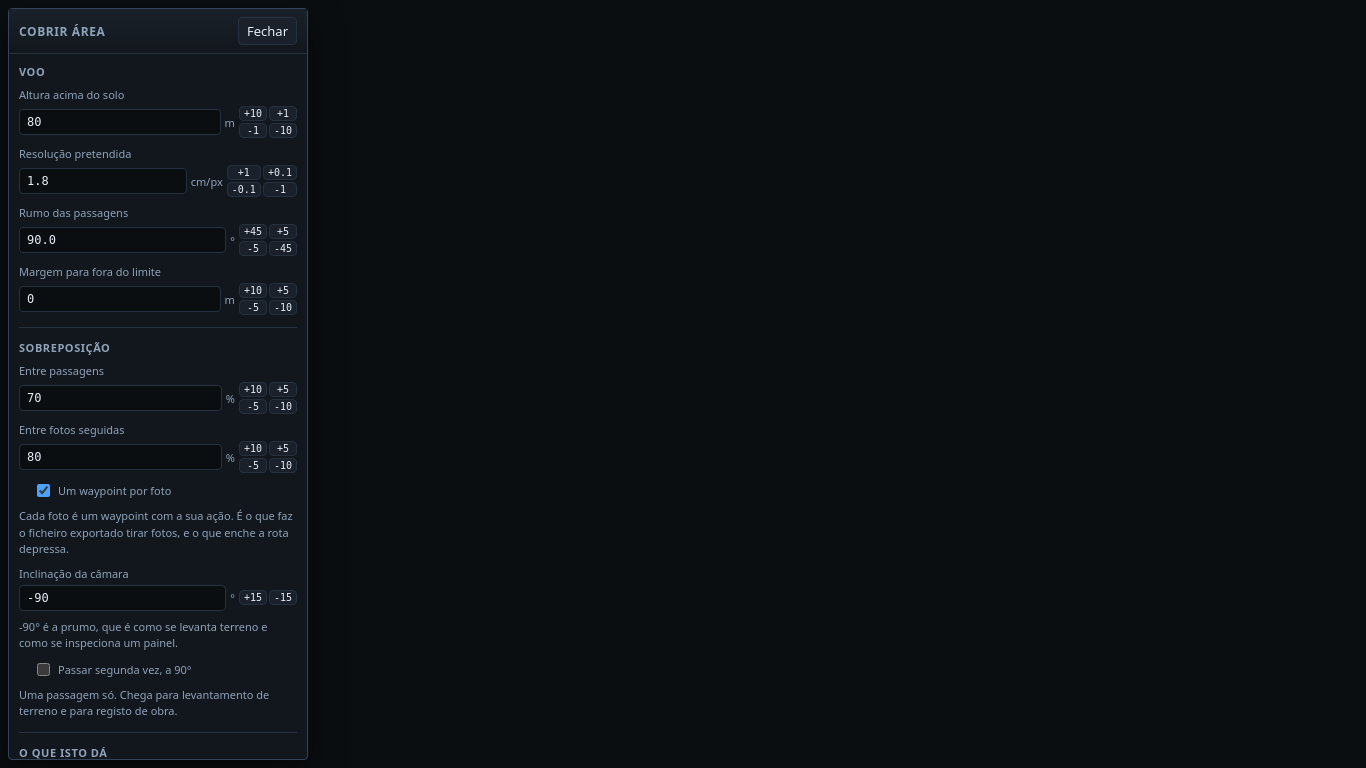
painel de cobertura › avisa quando a rota fica com waypoints a mais para o aparelho
Replace the text in the field labelled "Altura acima do solo" with "20" at point(120, 122), box [19,109,221,135]
Then press Enter
(page scrolled)
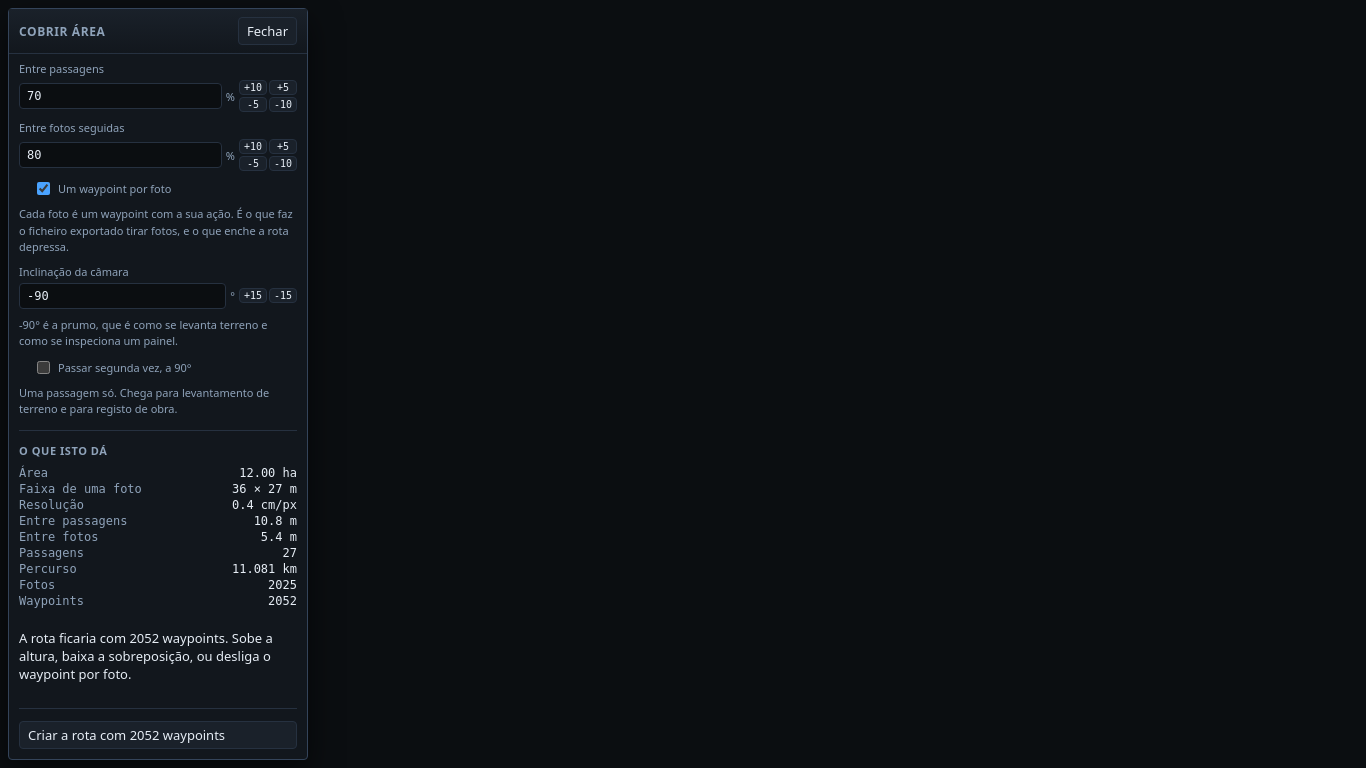
Result: the text "waypoints. Sobe a altura" is shown at [19,628,273,682]
